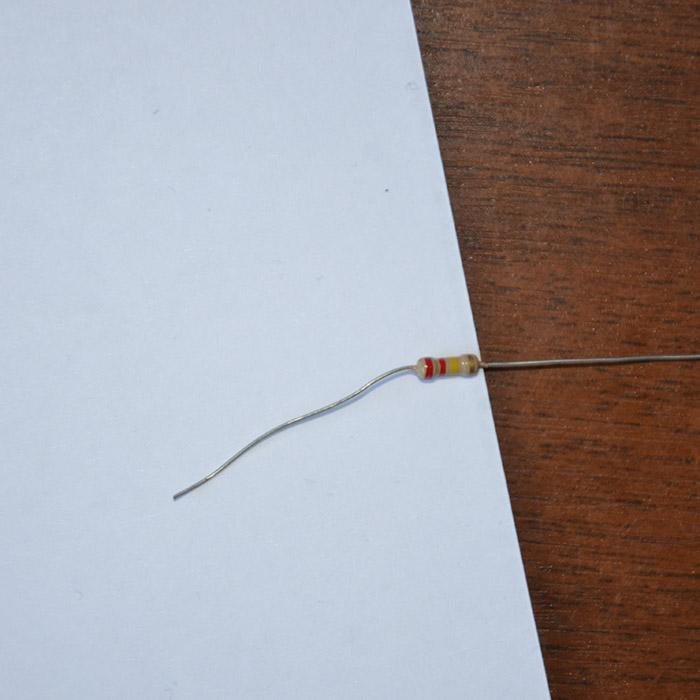resistor: (412, 352, 480, 380)
